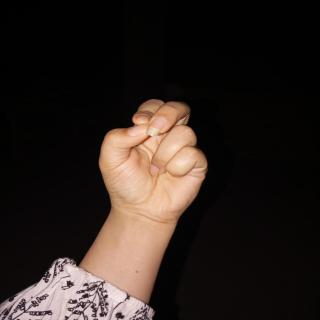QAAF: (96, 83, 226, 240)
